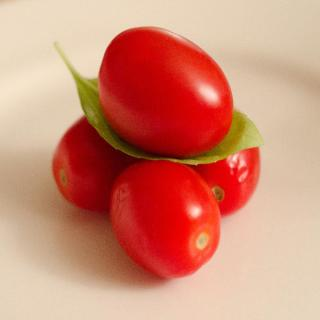tomato: (97, 24, 234, 158), (99, 156, 222, 278), (55, 113, 149, 215), (190, 144, 261, 213)
